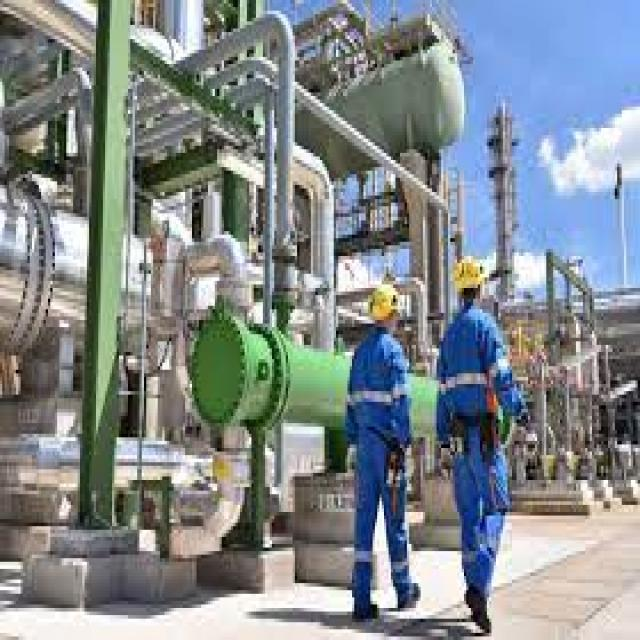vest: (434, 302, 523, 594), (346, 322, 415, 612)
